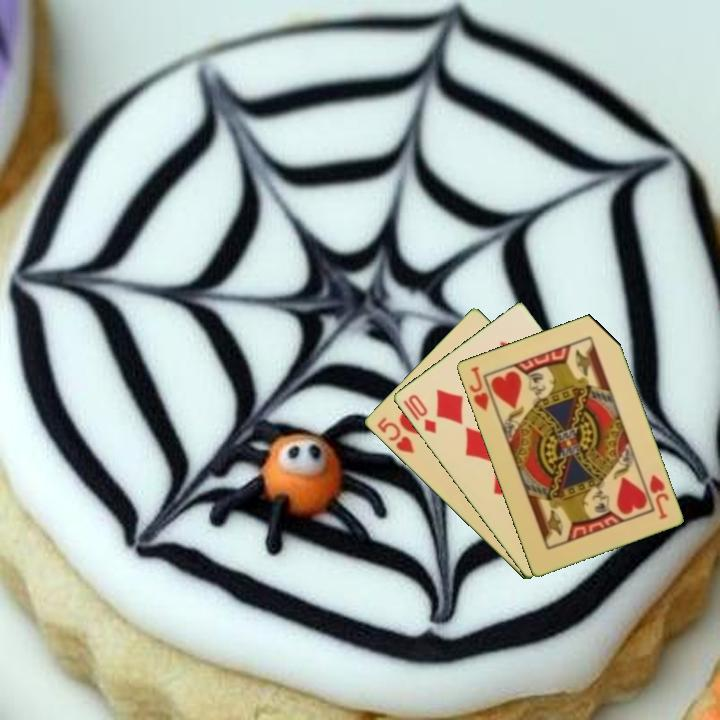10d: (399, 391, 439, 436)
5h: (373, 414, 417, 456)
Jh: (645, 471, 672, 522), (465, 362, 491, 414)
